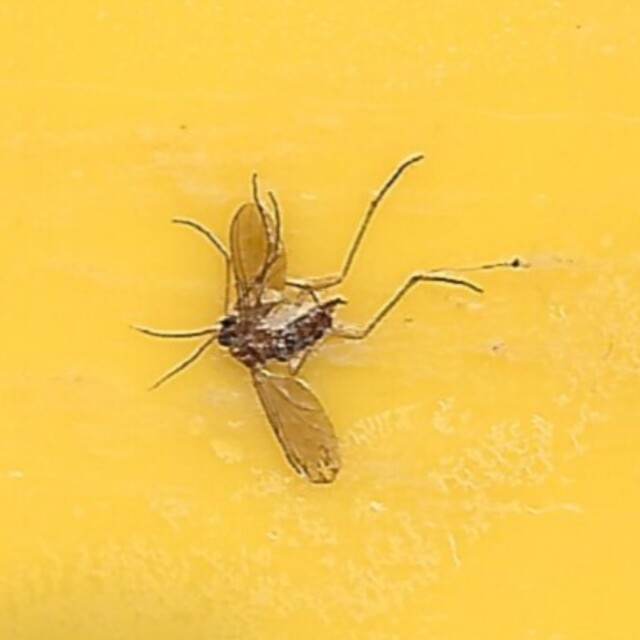Nematocera: (154, 153, 486, 487)
